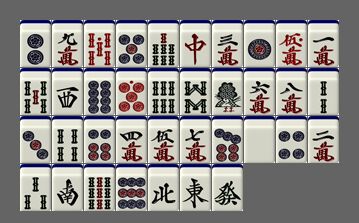0m: (276, 20, 307, 67)
0p: (116, 68, 147, 115)
0s: (84, 20, 115, 67)
1m: (308, 20, 339, 67)
1p: (244, 20, 275, 67)
1s: (212, 68, 243, 115)
1z: (180, 164, 211, 211)
2m: (308, 116, 339, 163)
2p: (20, 20, 51, 67)
2s: (308, 68, 339, 115)
2z: (52, 164, 83, 211)
3m: (212, 20, 243, 67)
3p: (20, 116, 51, 163)
3s: (20, 164, 51, 211)
3z: (52, 68, 83, 115)
4m: (116, 116, 147, 163)
4p: (276, 116, 307, 163)
4s: (52, 116, 83, 163)
4z: (148, 164, 179, 211)
5m: (148, 116, 179, 163)
5p: (116, 20, 147, 67)
5s: (20, 68, 51, 115)
5z: (244, 116, 275, 163)
6m: (244, 68, 275, 115)
6p: (84, 116, 115, 163)
6s: (148, 68, 179, 115)
6z: (212, 164, 243, 211)
7m: (180, 116, 211, 163)
7p: (212, 116, 243, 163)
7s: (148, 20, 179, 67)
7z: (180, 20, 211, 67)
8m: (276, 68, 307, 115)
8p: (84, 68, 115, 115)
8s: (180, 68, 211, 115)
9m: (52, 20, 83, 67)
9p: (116, 164, 147, 211)
9s: (84, 164, 115, 211)
